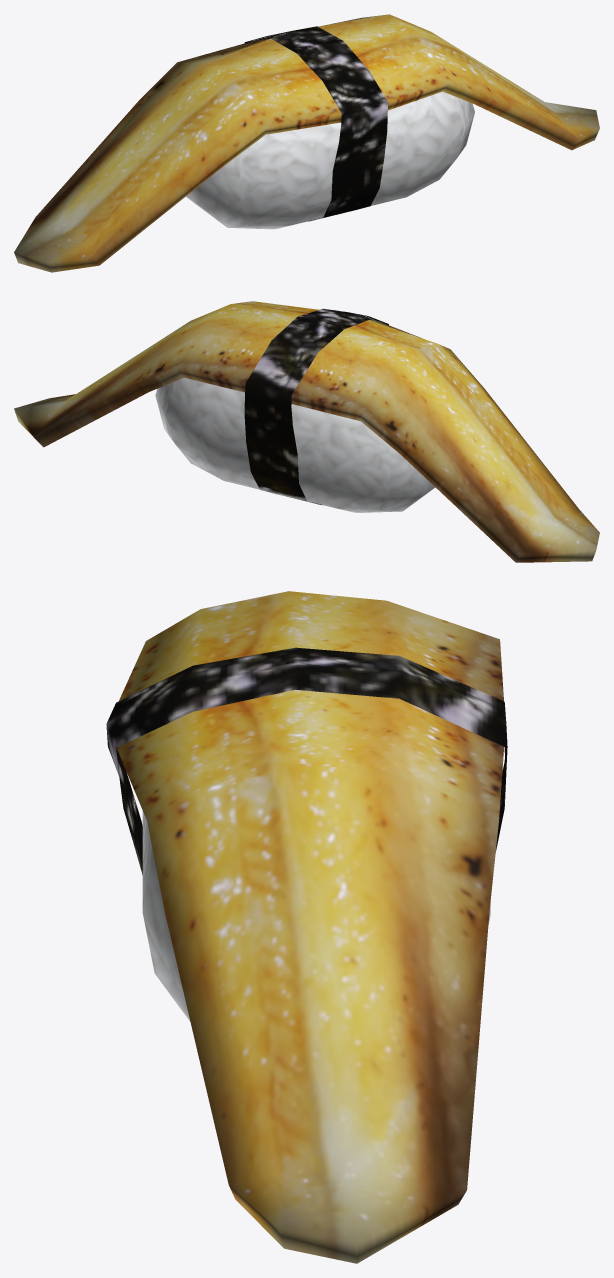
File: conger_eel.fbx
The picture shows the model from 3 angles, top to bottom: view 1: azimuth 30°, elevation 25°; view 2: azimuth 150°, elevation 25°; view 3: azimuth 270°, elevation 25°; orthographic projection. The views are drawn at different scales.
Visible parts, largest first — view 1: conger_eel; view 2: conger_eel; view 3: conger_eel.
Boxes of the visible parts, x1,y1,x2,y2 form: conger_eel: [14, 14, 599, 272]; conger_eel: [14, 301, 599, 562]; conger_eel: [106, 591, 507, 1263].
Size of the model in its own units: 12.08 by 3.2 by 3.6.
